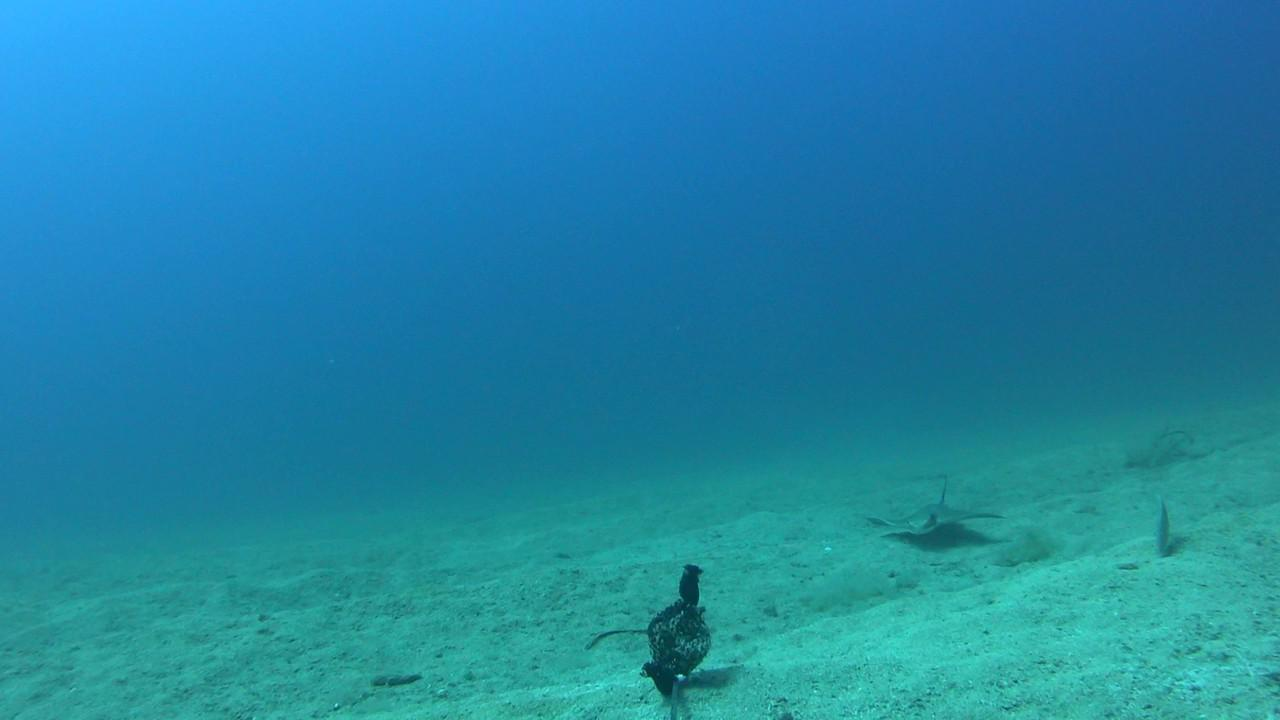myliobatis: (856, 470, 1007, 540)
